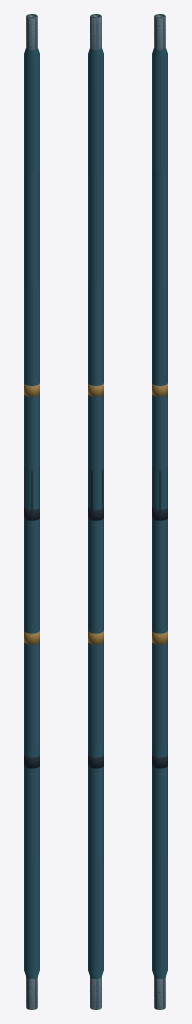
File: mwd-probe.glb
3 views of the same model, side by side, from view 1: azimuth 90°, elevation 25°; view 2: azimuth 150°, elevation 25°; view 3: azimuth 270°, elevation 25° (orthographic).
Visible parts, largest first — view 1: tool-housing (×2), sensor-bands (×2), uphole-connection, downhole-connection, sensor-windows; view 2: tool-housing (×2), sensor-bands (×2), uphole-connection, downhole-connection, sensor-windows; view 3: tool-housing (×2), sensor-bands (×2), uphole-connection, downhole-connection, sensor-windows.
Boxes of the visible parts, left/top/right/bottom form: tool-housing (×2): left=24, top=14, right=39, bottom=1009; sensor-bands (×2): left=24, top=383, right=39, bottom=768; uphole-connection: left=26, top=14, right=37, bottom=49; downhole-connection: left=26, top=977, right=37, bottom=1009; sensor-windows: left=24, top=468, right=39, bottom=520; tool-housing (×2): left=88, top=14, right=103, bottom=1009; sensor-bands (×2): left=88, top=383, right=103, bottom=768; uphole-connection: left=90, top=14, right=101, bottom=49; downhole-connection: left=90, top=977, right=101, bottom=1009; sensor-windows: left=91, top=469, right=103, bottom=519; tool-housing (×2): left=152, top=14, right=167, bottom=1009; sensor-bands (×2): left=152, top=383, right=167, bottom=768; uphole-connection: left=154, top=14, right=165, bottom=49; downhole-connection: left=154, top=977, right=165, bottom=1009; sensor-windows: left=152, top=468, right=167, bottom=520.
Bounding box in the file's own units: 0.0472 × 3.2 × 0.0472.
4 materials, 4 textured.
